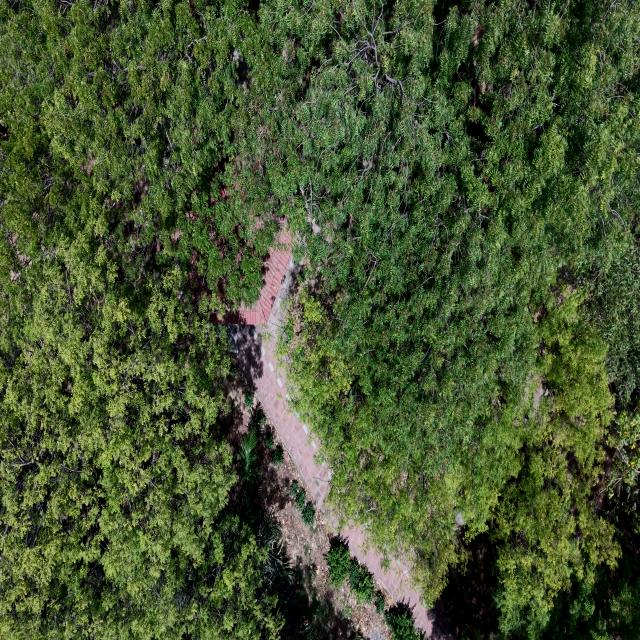DRY_AREA: (251, 416, 390, 639), (229, 258, 336, 531)
VEGETATION_TREE: (0, 0, 639, 639), (275, 2, 639, 602), (0, 1, 281, 639), (0, 209, 280, 639), (0, 1, 278, 309), (492, 295, 619, 631), (566, 1, 639, 403), (253, 450, 385, 637), (540, 407, 639, 639), (584, 213, 639, 401), (539, 553, 639, 639), (232, 493, 291, 601), (601, 408, 639, 531), (326, 540, 374, 603), (441, 571, 478, 636), (238, 423, 257, 490), (289, 480, 314, 526), (385, 608, 422, 639), (326, 539, 349, 587), (349, 566, 373, 603), (348, 557, 359, 589), (300, 501, 314, 526), (373, 590, 384, 615), (294, 487, 305, 510), (270, 444, 282, 465), (265, 432, 275, 452), (255, 408, 265, 428), (289, 480, 298, 497), (244, 390, 253, 407), (229, 363, 239, 378), (352, 628, 363, 639), (265, 432, 272, 449)
